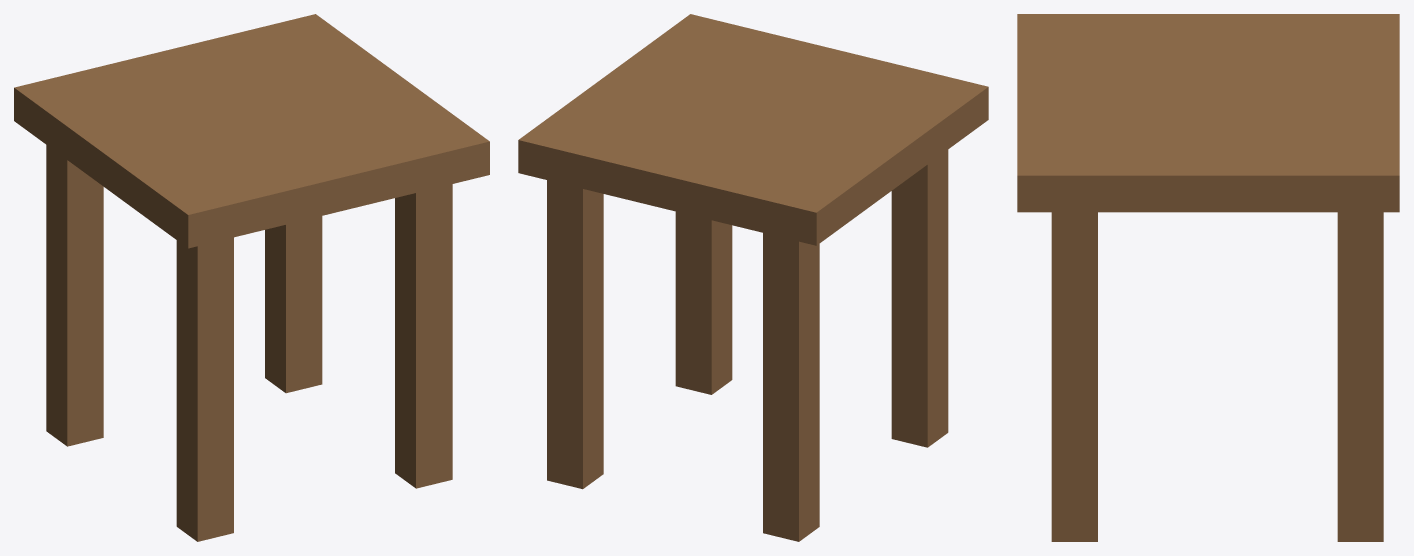
Rendered from Chair 1.fbx.
3 views of the same model, side by side, from view 1: azimuth 30°, elevation 25°; view 2: azimuth 150°, elevation 25°; view 3: azimuth 270°, elevation 25° (orthographic). The views are drawn at different scales.
Parts seen in each view (by area): view 1: Cube.032; view 2: Cube.032; view 3: Cube.032.
Part boxes in pixels (<box>): Cube.032: <box>14,14,489,541</box>; Cube.032: <box>518,14,988,541</box>; Cube.032: <box>1017,14,1399,541</box>.
Size of the model in its own units: 111 by 121 by 111.
